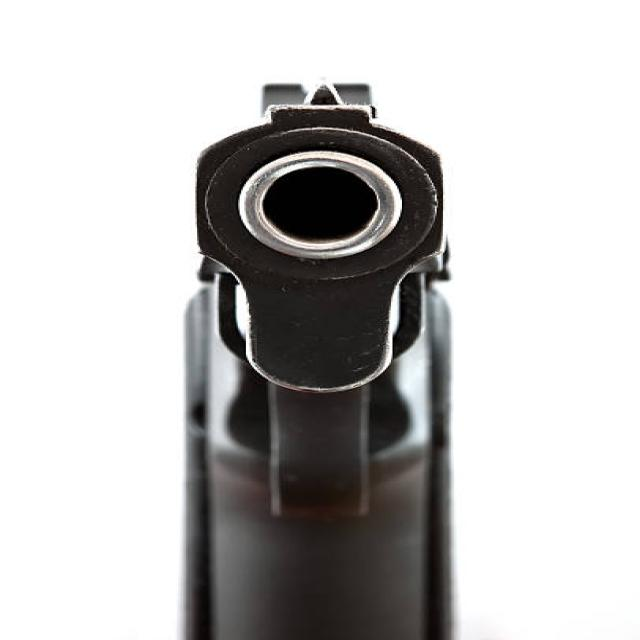pistol: (150, 72, 471, 640)
